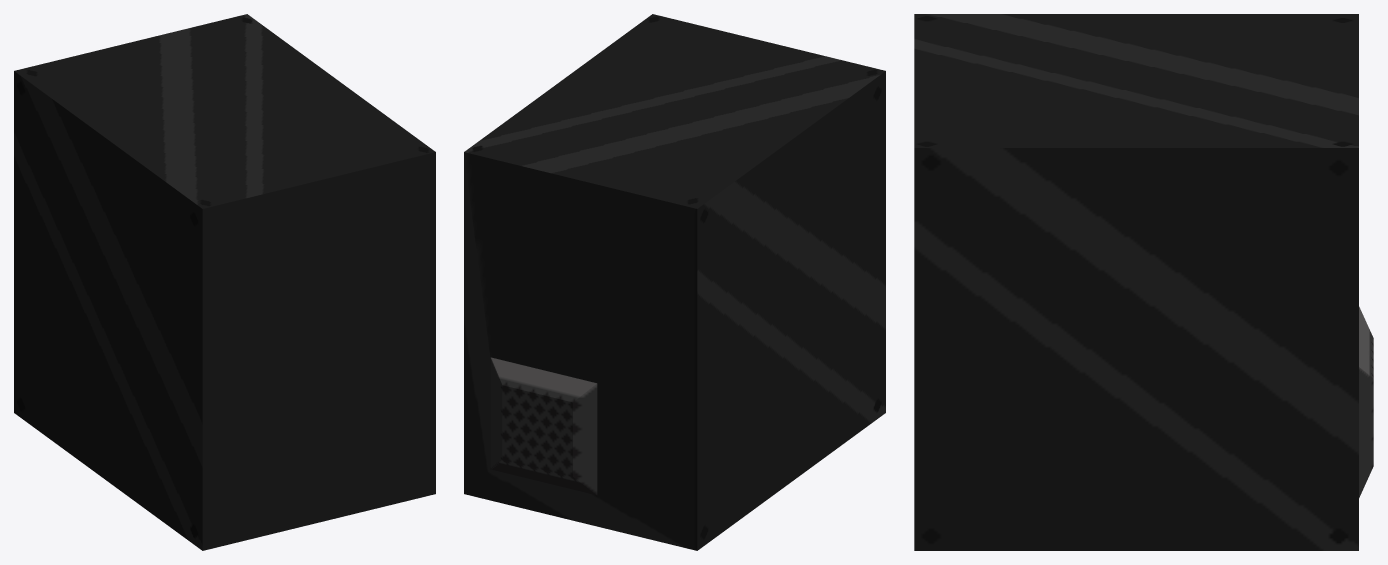
File: Case.fbx
3 views of the same model, side by side, from view 1: azimuth 30°, elevation 25°; view 2: azimuth 150°, elevation 25°; view 3: azimuth 270°, elevation 25° (orthographic). The views are drawn at different scales.
Visible parts, largest first — view 1: Case.001; view 2: Case.001; view 3: Case.001.
Part boxes in pixels (box(x1,y1,x2,y2)): Case.001: box(14, 14, 435, 550); Case.001: box(464, 14, 885, 550); Case.001: box(914, 14, 1373, 550).
Bounding box in the file's own units: 14.28 × 20 × 20.67.
